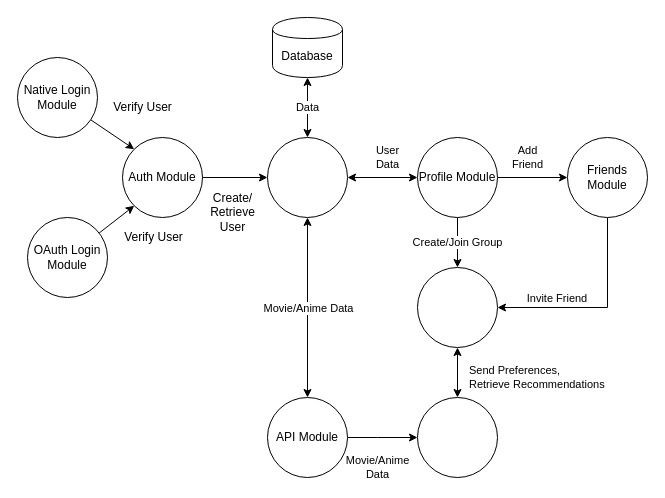
Image size: 665x498. Some labels were removed from this diagram. Here are the shapes that lost their labels. From the top down, the box of each, then its label:
(266, 136, 348, 218): DB Module
(416, 266, 498, 348): Group Module
(416, 396, 498, 478): Matching Algorithm Module
